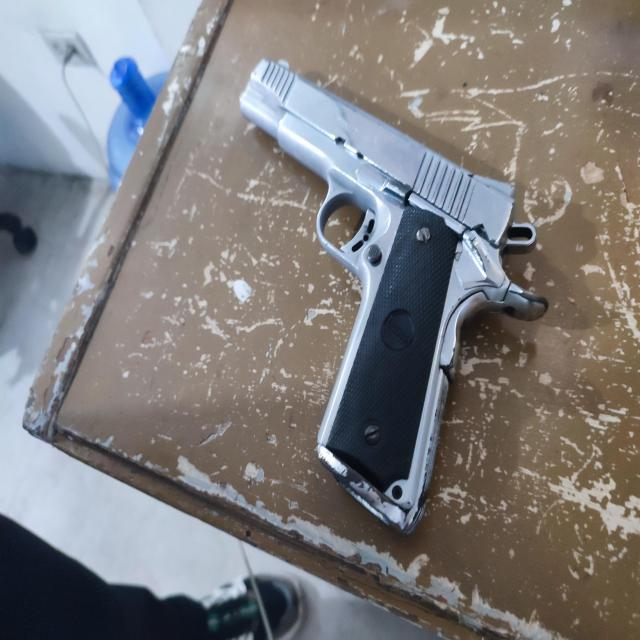pistol: (239, 58, 548, 534)
